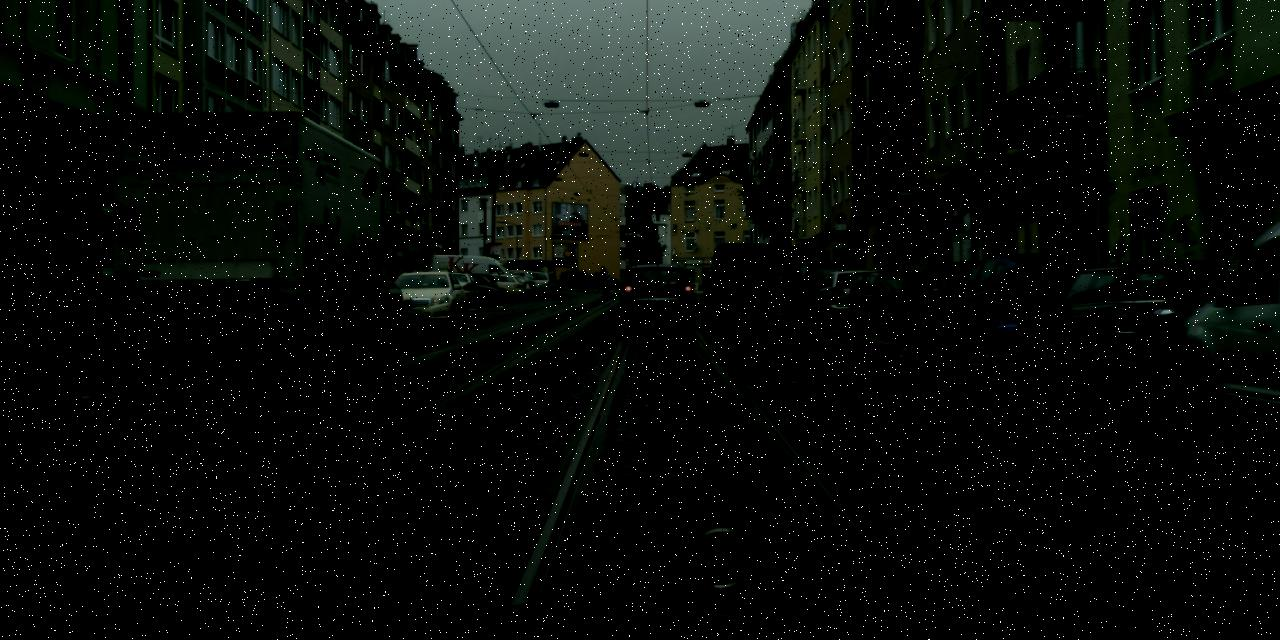ped: (921, 259, 942, 313), (384, 263, 404, 310), (894, 264, 912, 308), (598, 266, 610, 297)
